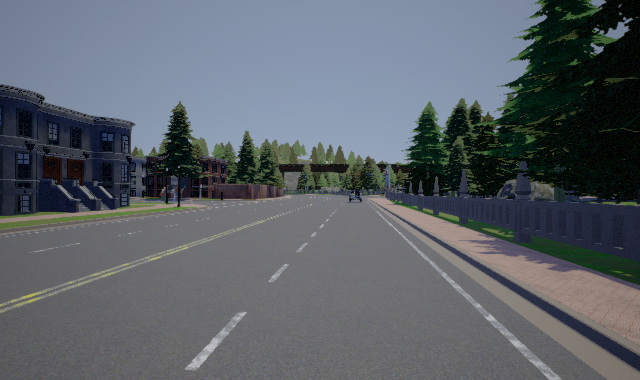vehicle: (348, 187, 363, 201)
